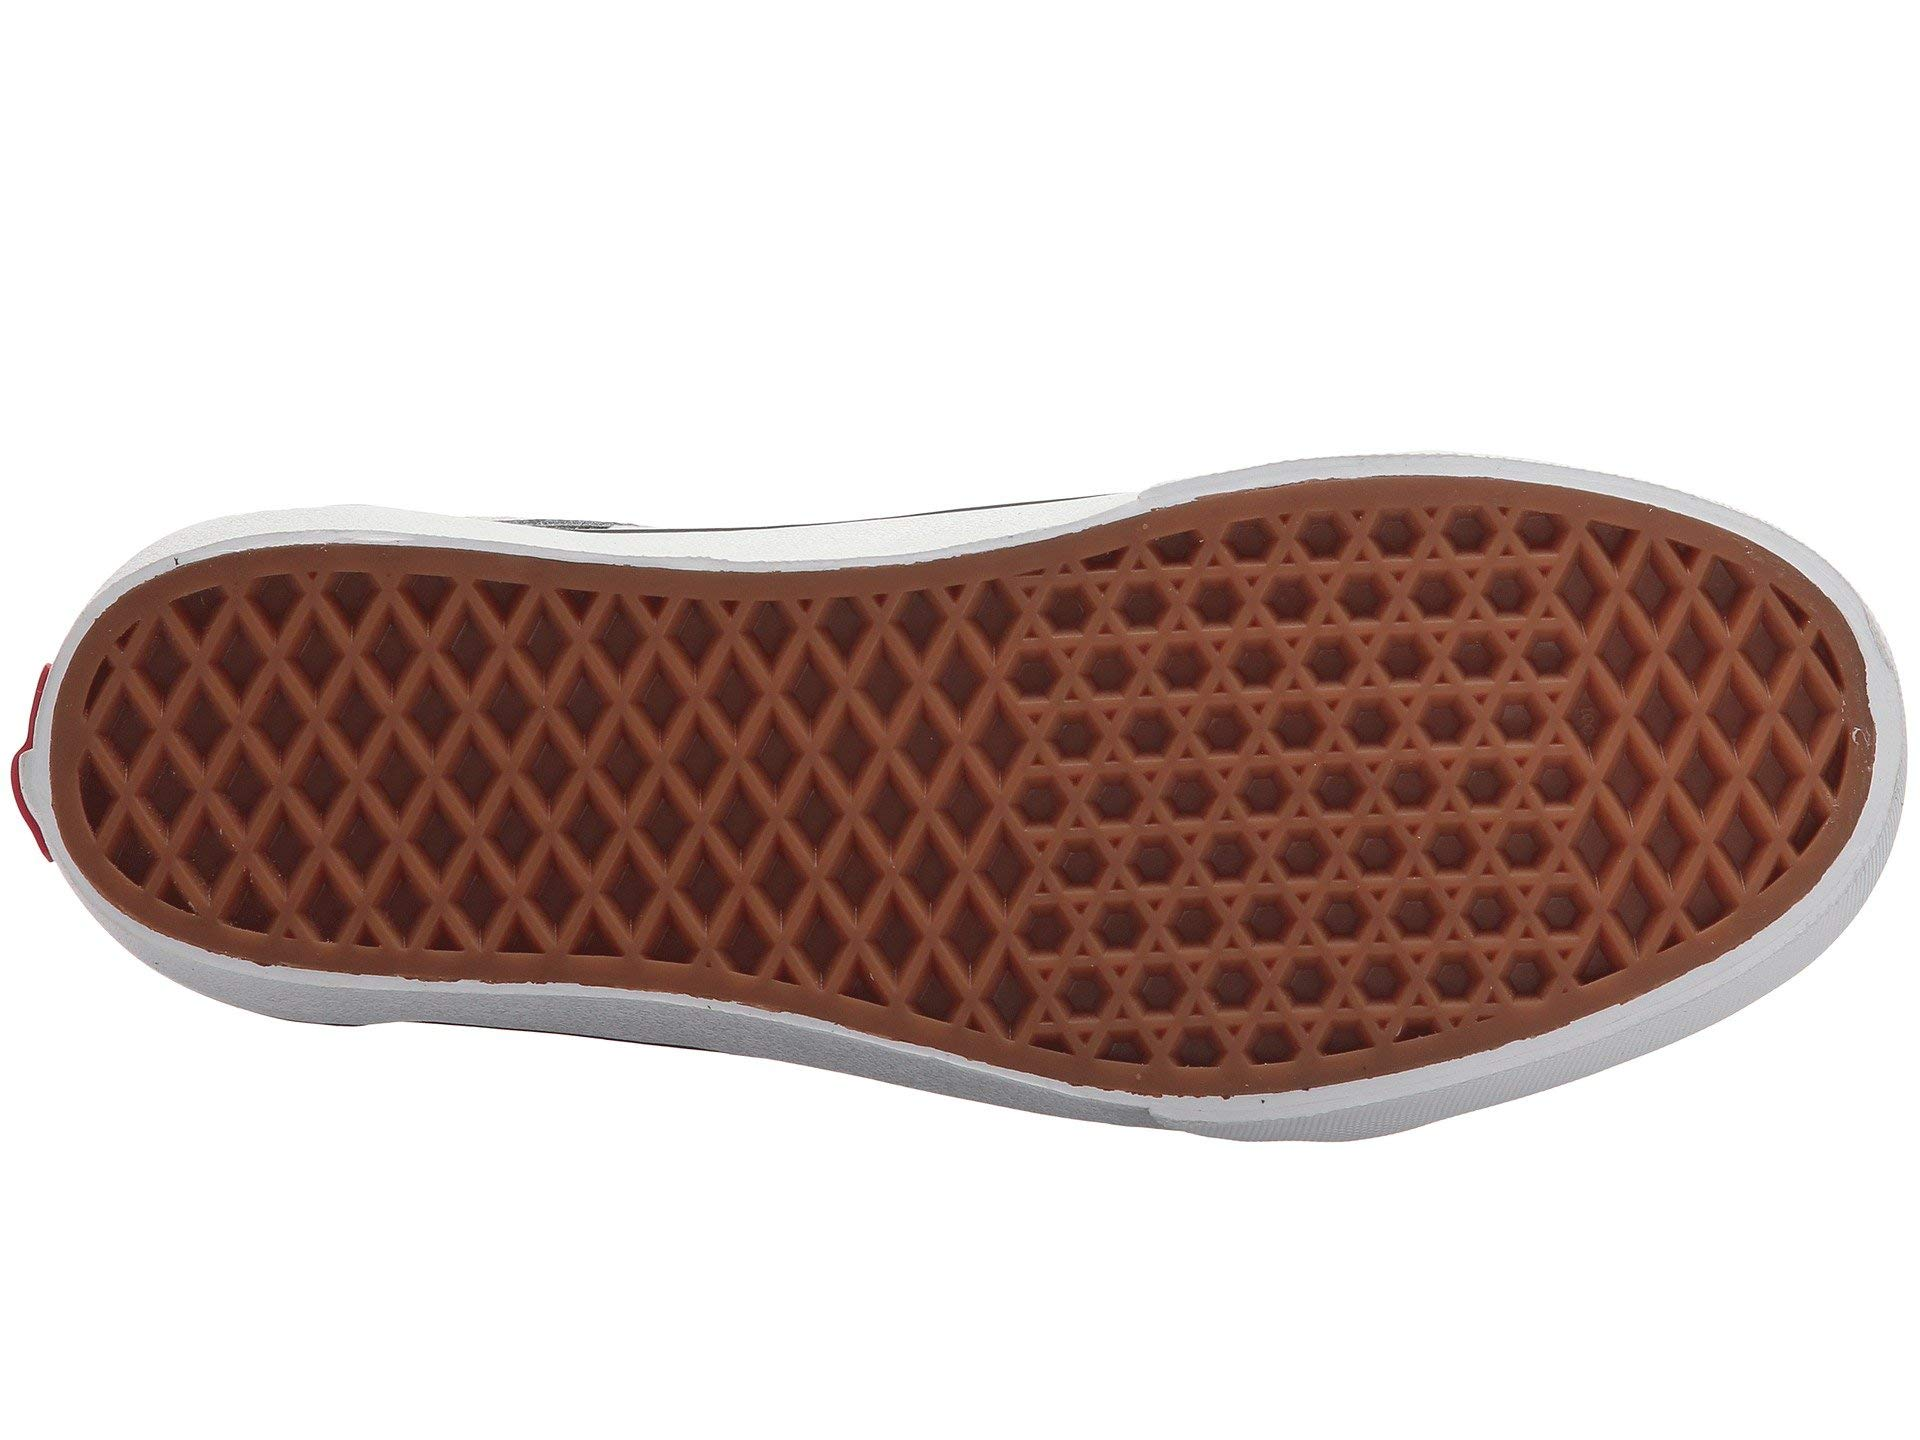polygon: (1069, 578, 1554, 985)
quad: (154, 611, 1022, 961), (1566, 567, 1788, 867)
triangle: (1069, 578, 1554, 985)
